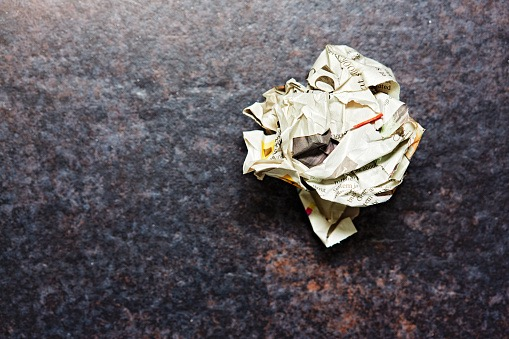paper: (240, 43, 426, 249)
